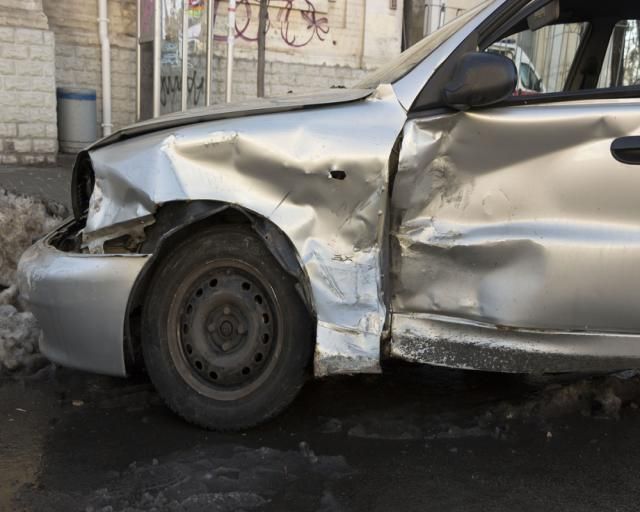dent: (86, 132, 387, 371), (389, 113, 625, 328)
